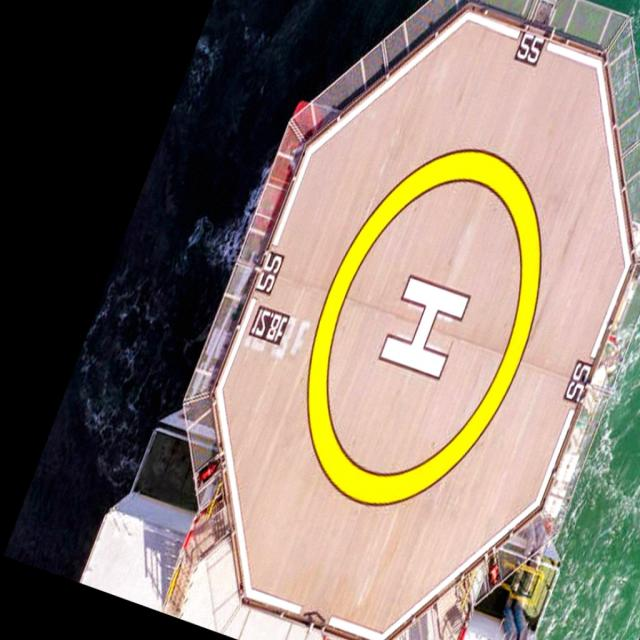helipad: (297, 144, 544, 511)
